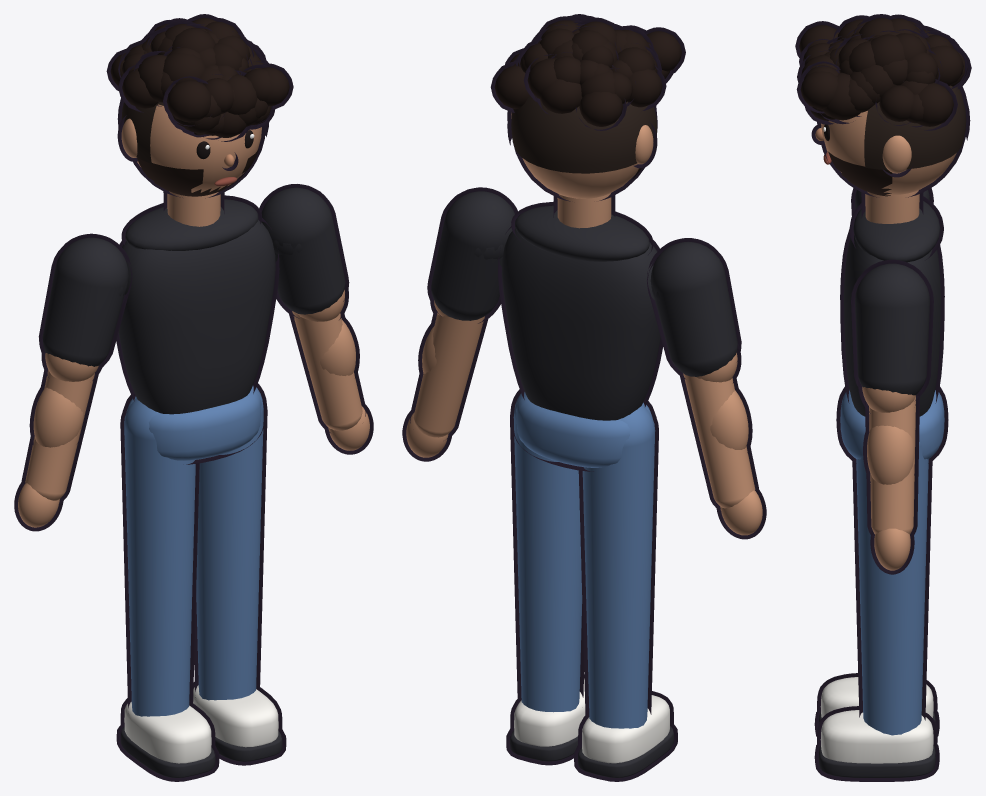
Rendered from guy_toon.glb.
3 views of the same model, side by side, from view 1: azimuth 30°, elevation 25°; view 2: azimuth 150°, elevation 25°; view 3: azimuth 270°, elevation 25° (orthographic).
Visible parts, largest first — view 1: torso, leg_R, head, leg_L, arm_R, arm_L; view 2: torso, head, leg_R, leg_L, arm_R, arm_L; view 3: head, leg_L, arm_L, torso, leg_R.
Part boxes in pixels (x1,y1,x2,y2): torso: (116, 195, 279, 464); leg_R: (116, 394, 219, 781); head: (106, 14, 293, 226); leg_L: (193, 383, 286, 765); arm_R: (14, 233, 132, 531); arm_L: (259, 184, 373, 454); torso: (498, 201, 663, 471); head: (490, 14, 685, 228); leg_R: (574, 400, 677, 781); leg_L: (506, 389, 585, 765); arm_R: (647, 238, 766, 539); arm_L: (402, 187, 517, 461); head: (795, 14, 971, 223); leg_L: (814, 441, 939, 781); arm_L: (851, 259, 933, 574); torso: (836, 196, 948, 463); leg_R: (814, 673, 939, 736).
Bounding box in the file's own units: 0.9822 × 1.92 × 0.4187.
